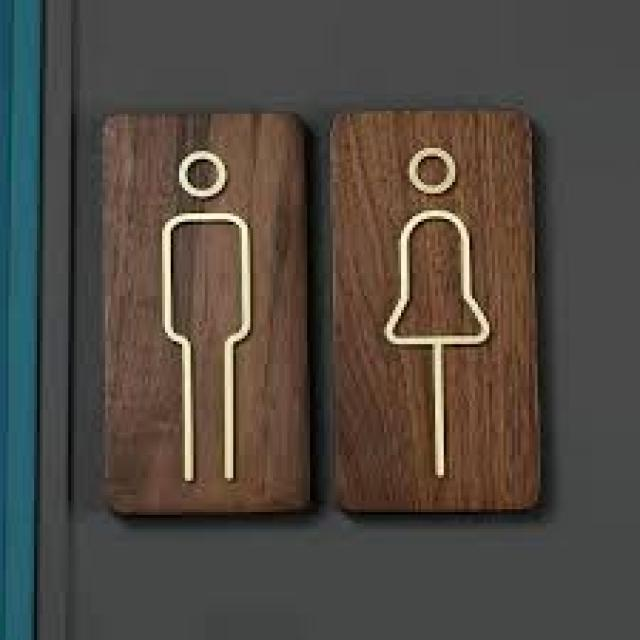toilet_icon: (146, 134, 498, 496)
